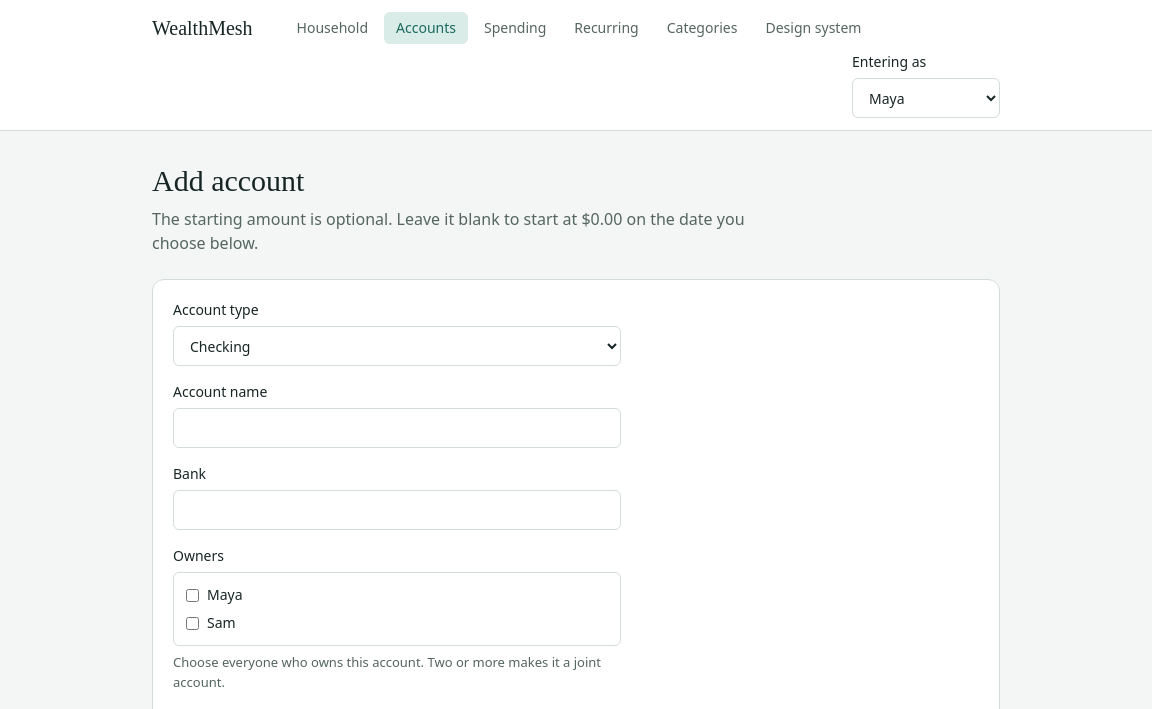
Test: setting up a brokerage › V2_BROKERAGE_002 the form speaks of an institution, a setup date, an opening total, cash and holdings
Step 1. Select "Brokerage" in the dropdown labelled "Account type" → (397, 346), box x1=173 y1=326 x2=621 y2=366
(page scrolled)
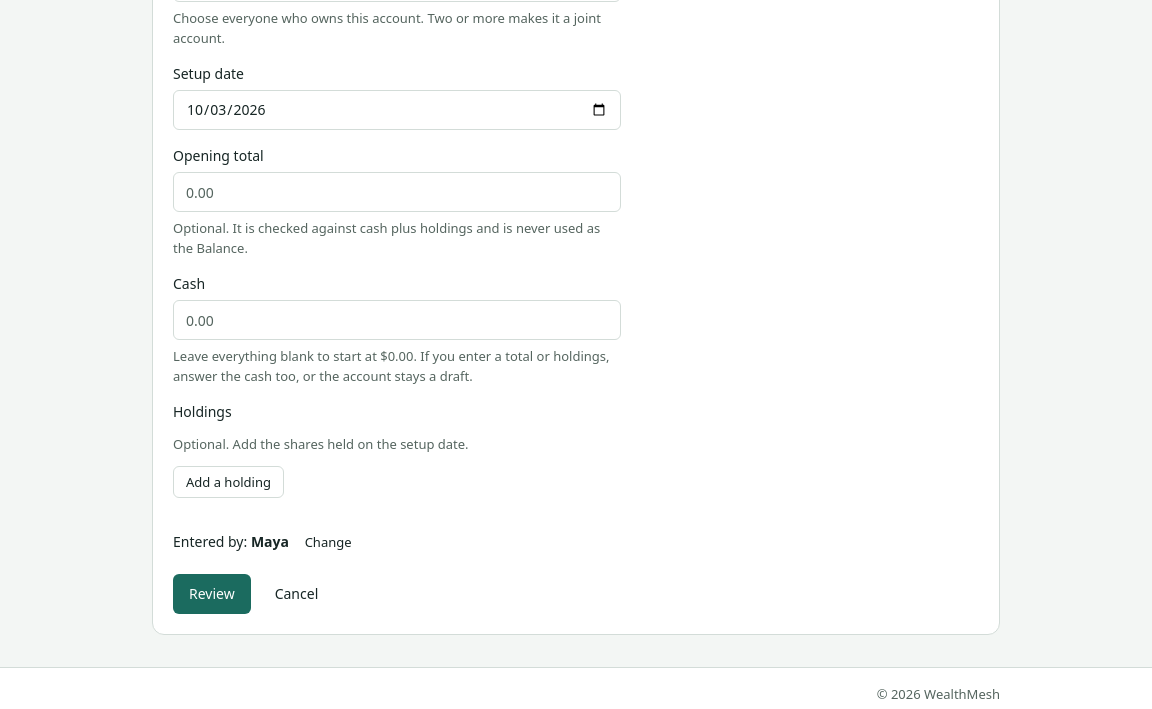
Check: the field labelled "Opening total" is shown, box x1=173 y1=172 x2=621 y2=212
Check: the field labelled "Cash" is shown, box x1=173 y1=300 x2=621 y2=340
Check: the heading "Holdings" is shown, box x1=173 y1=402 x2=232 y2=421
